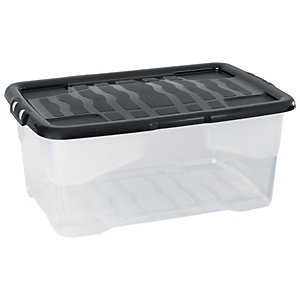PlasticBox: (2, 59, 298, 242)
